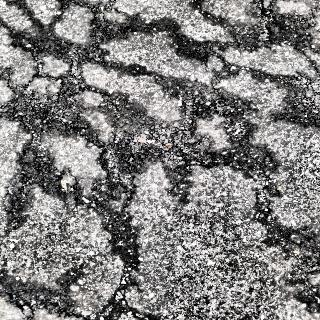alligator-crack: (3, 1, 315, 318)
